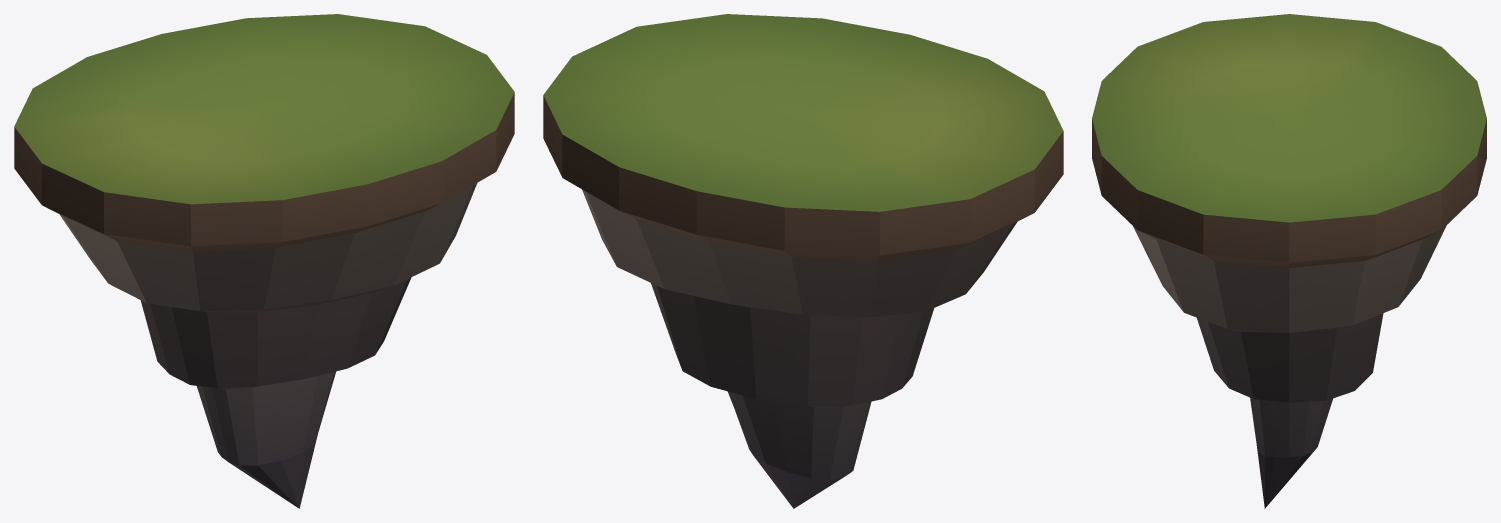
The model's file is rocher_M.glb.
3 views of the same model, side by side, from view 1: azimuth 30°, elevation 25°; view 2: azimuth 150°, elevation 25°; view 3: azimuth 270°, elevation 25° (orthographic). The views are drawn at different scales.
Parts seen in each view (by area): view 1: rocher_M; view 2: rocher_M; view 3: rocher_M.
Part boxes in pixels (box(x1,y1,x2,y2)): rocher_M: box(14, 14, 514, 508); rocher_M: box(543, 14, 1063, 508); rocher_M: box(1092, 14, 1486, 508).
Bounding box in the file's own units: 3 × 2.55 × 2.4.
